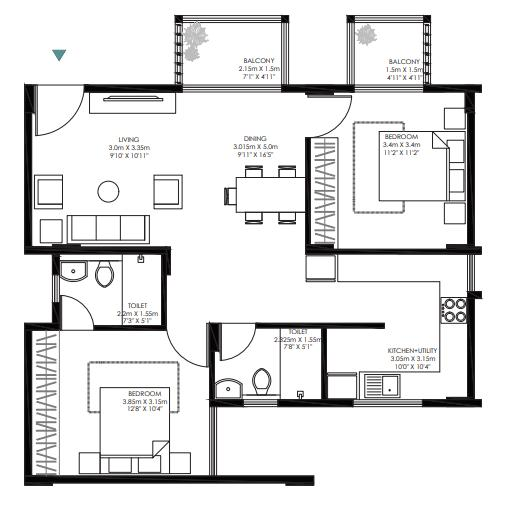Balcony: (176, 18, 285, 88), (355, 21, 426, 85)
Bedroom: (35, 332, 214, 475), (305, 98, 470, 252)
Dining Room: (183, 95, 307, 279)
Dining table: (217, 160, 313, 230)
Kitchen: (386, 258, 474, 404)
Living Room: (28, 89, 182, 245)
fridge: (304, 256, 338, 283)
toilet: (213, 328, 324, 398), (58, 255, 162, 326)
utility: (327, 326, 404, 400)
washing-machine: (328, 372, 358, 400)
